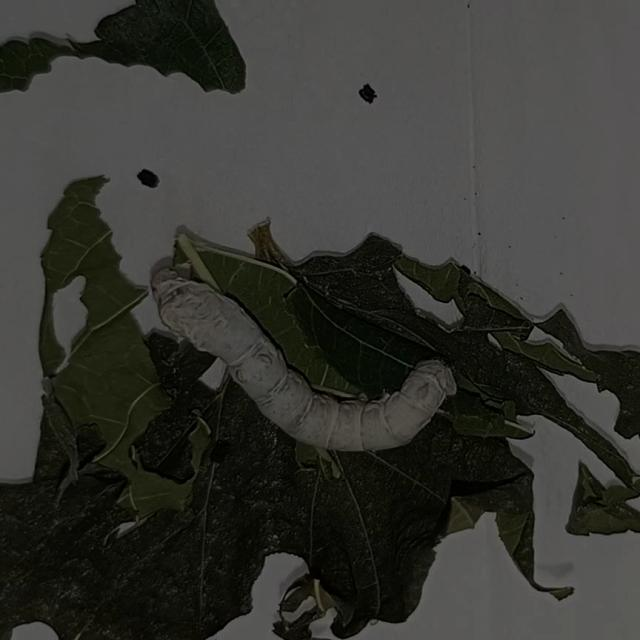Healthy: (122, 230, 494, 513)
